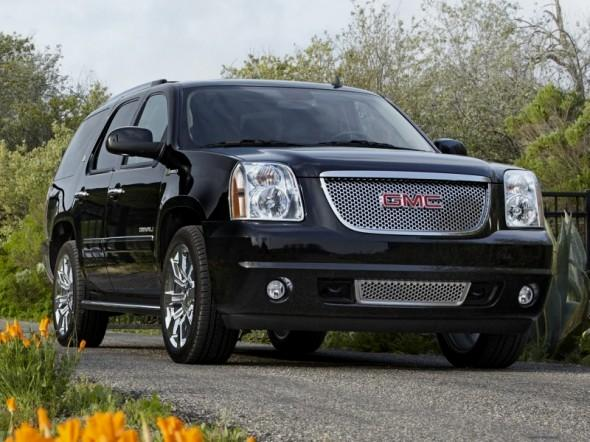GMC: (373, 185, 451, 223)
